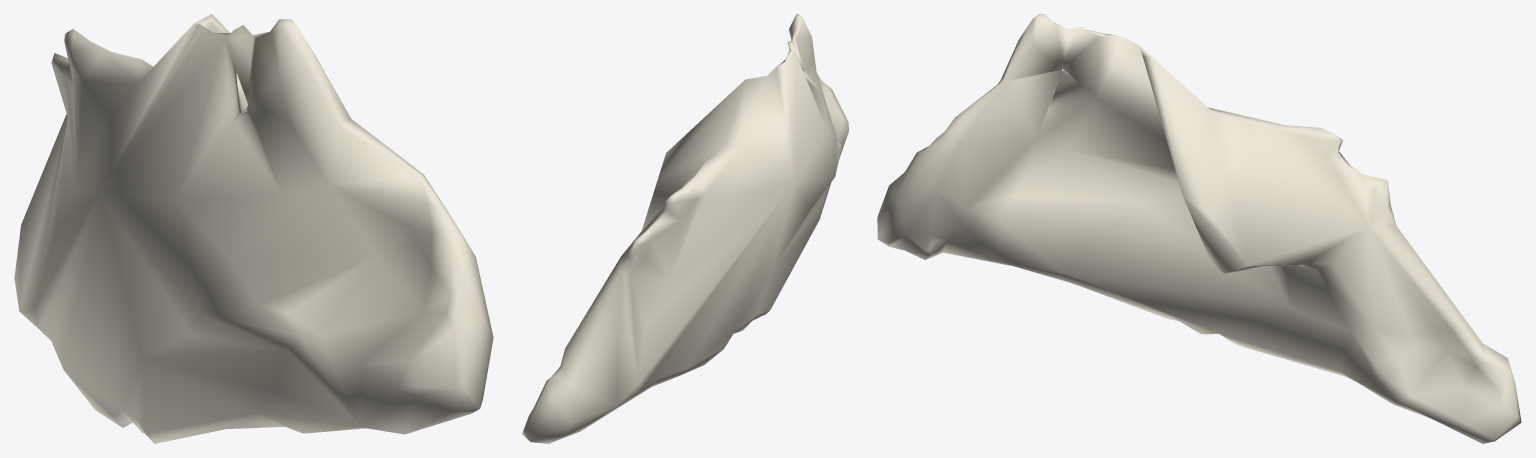
3 renders of one model, left to right at view 1: azimuth 30°, elevation 25°; view 2: azimuth 150°, elevation 25°; view 3: azimuth 270°, elevation 25°, orthographic. The views are drawn at different scales.
Parts seen in each view (by area): view 1: ZA_5a335db4d317b371; view 2: ZA_5a335db4d317b371; view 3: ZA_5a335db4d317b371.
Boxes of the visible parts, x1,y1,x2,y2 form: ZA_5a335db4d317b371: (14, 14, 493, 443); ZA_5a335db4d317b371: (522, 14, 848, 443); ZA_5a335db4d317b371: (877, 14, 1521, 443).
Bounding box in the file's own units: 0.0105 × 0.0225 × 0.0346.
